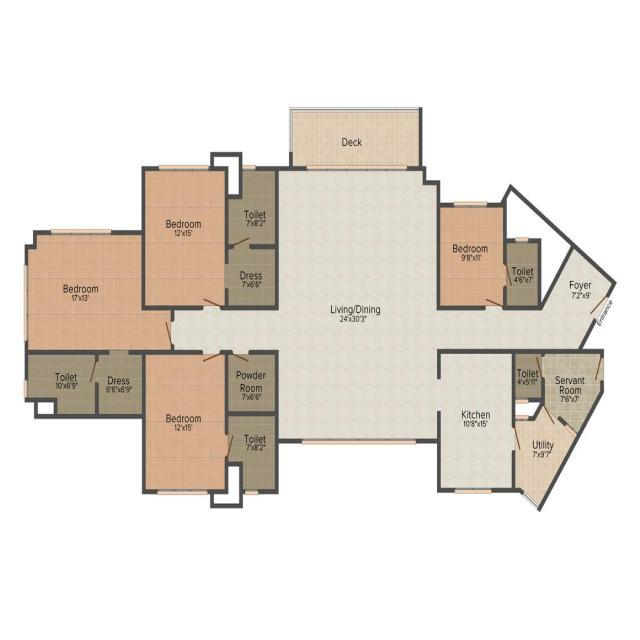Bedroom: (438, 202, 505, 309), (543, 350, 603, 436)
Bedroom with Toilet: (24, 230, 145, 418), (143, 166, 279, 310), (143, 352, 278, 495)
Dress: (95, 352, 146, 420), (226, 244, 277, 311)
Kitchen: (437, 349, 515, 494)
Living: (278, 169, 438, 443)
Toilet: (25, 350, 97, 419), (225, 418, 279, 497), (226, 167, 280, 246), (506, 238, 541, 308), (514, 351, 544, 403)
Utility: (514, 403, 577, 510)
